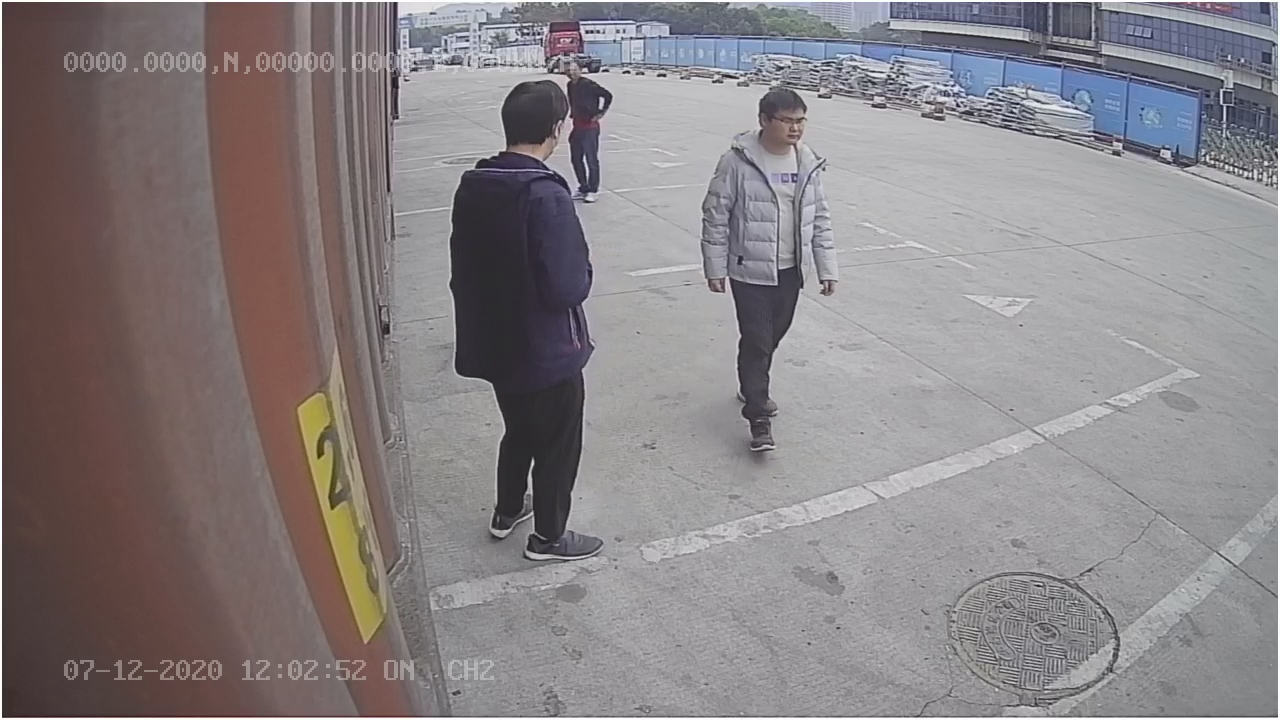person: (702, 85, 838, 461)
